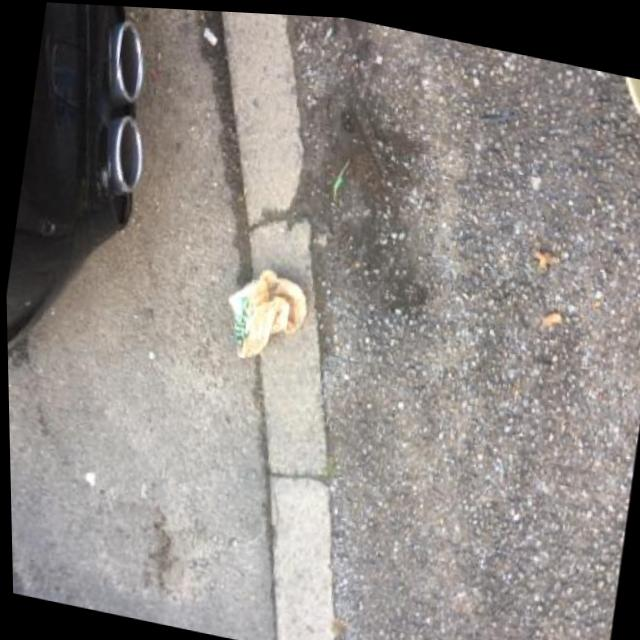paper: (221, 262, 315, 372)
